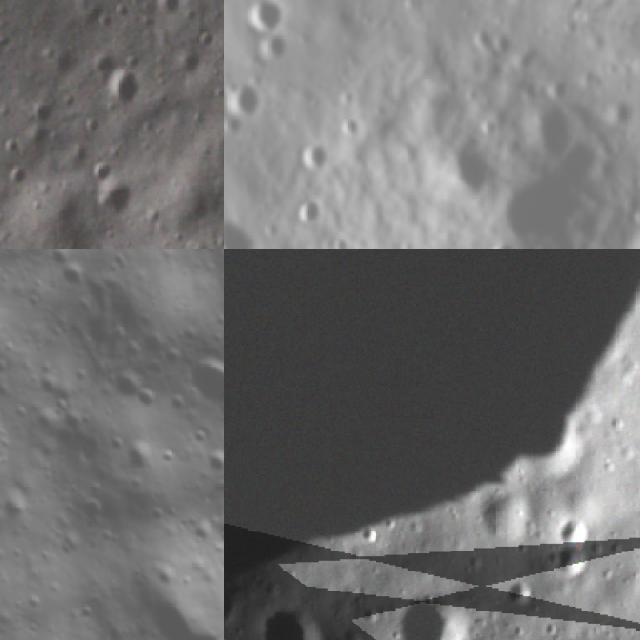crater: (224, 249, 640, 571), (485, 151, 601, 249), (432, 124, 503, 204), (387, 587, 476, 640), (524, 90, 586, 160), (173, 342, 224, 425), (94, 359, 147, 410), (254, 604, 323, 640), (105, 58, 150, 113), (94, 172, 146, 218), (255, 25, 301, 71), (238, 0, 291, 39), (294, 131, 338, 176), (224, 209, 269, 249), (553, 509, 595, 551), (224, 75, 265, 118), (547, 544, 593, 581), (54, 258, 94, 300), (0, 46, 19, 126), (131, 377, 170, 415), (288, 191, 328, 228), (39, 249, 77, 278), (32, 94, 62, 130), (6, 159, 39, 191), (499, 575, 536, 603), (480, 233, 526, 249)
